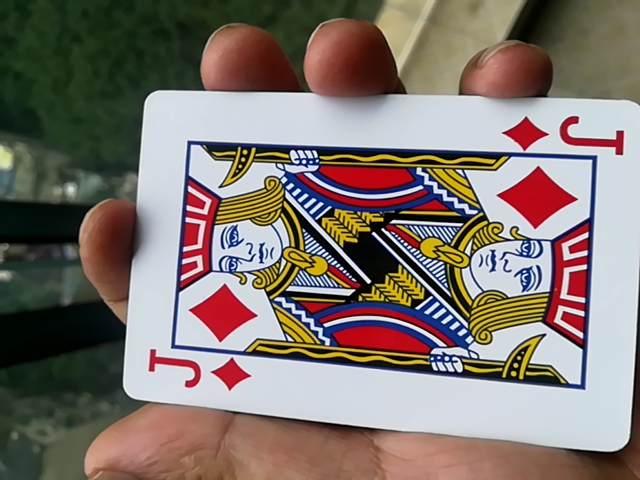fk j: (112, 102, 636, 450)
